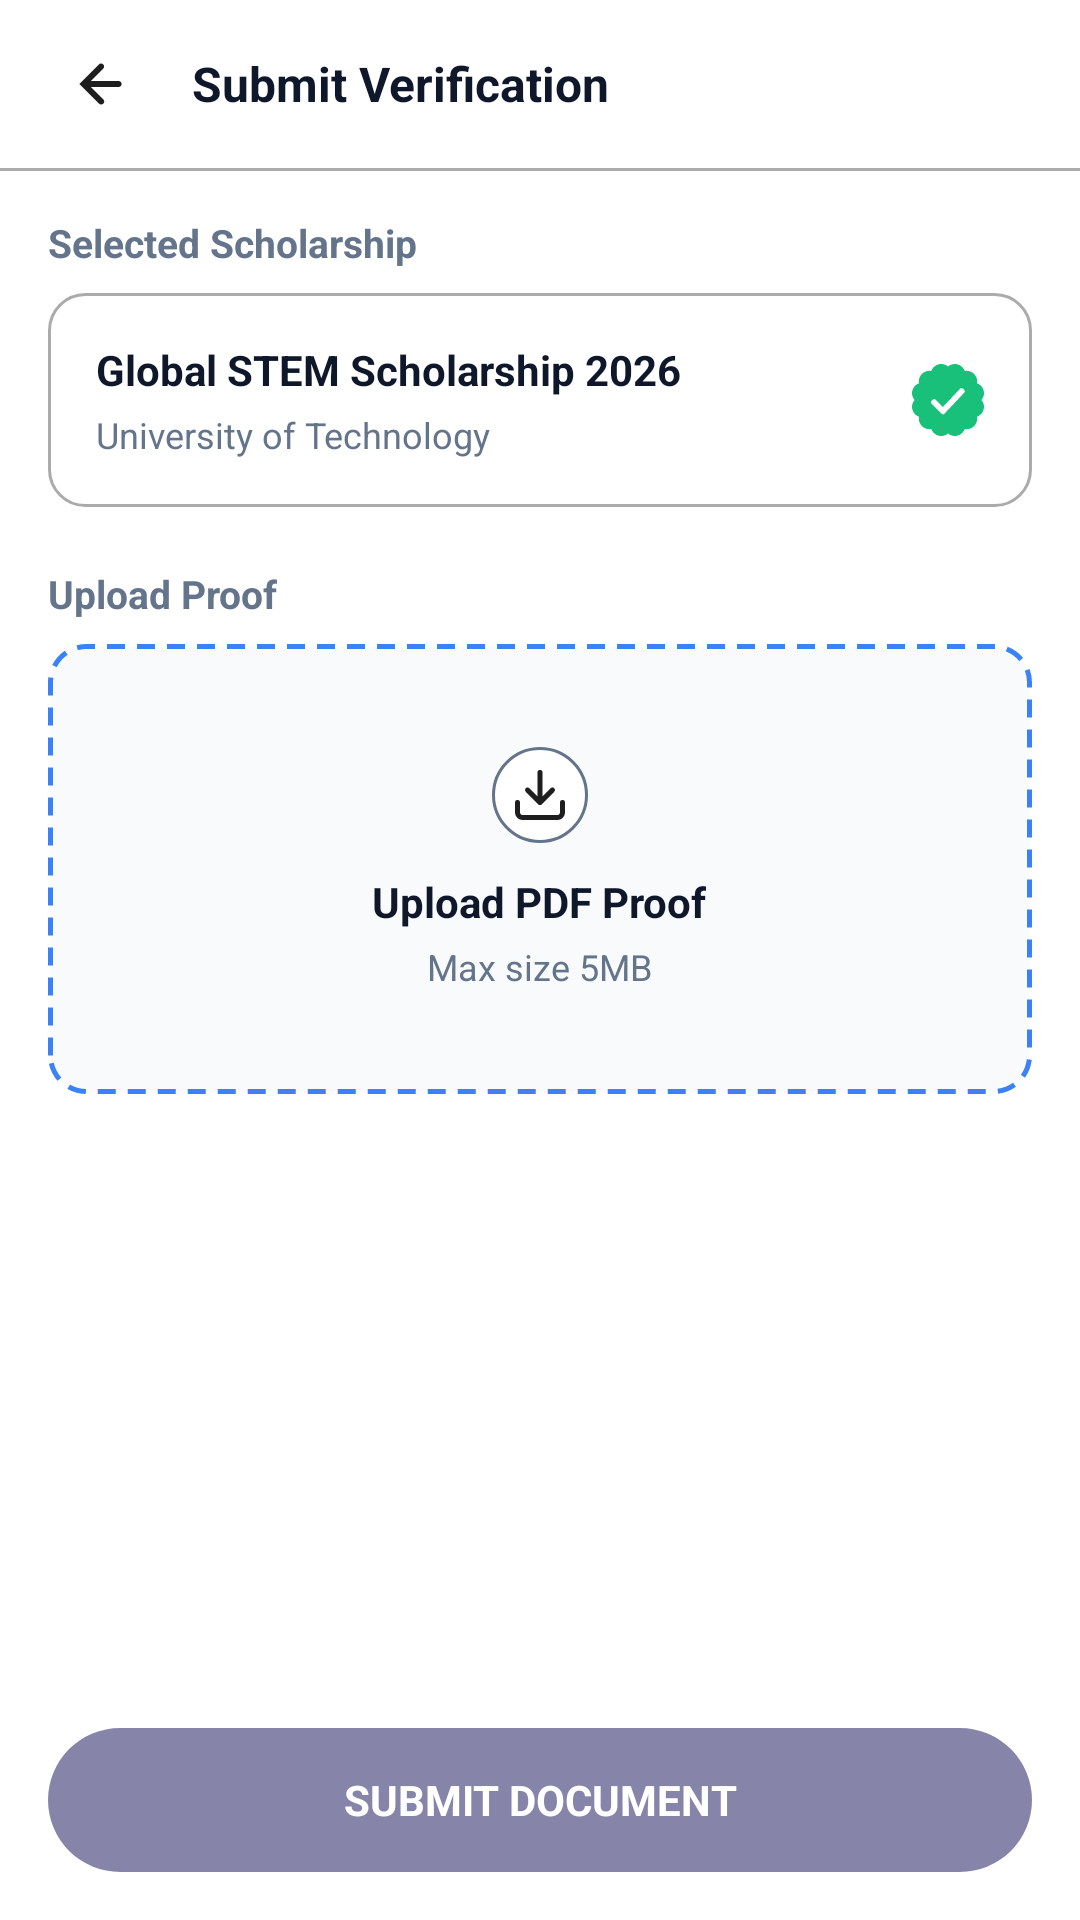

Named icons in this screenshot (1080 x 1920) and their centers, [x,y]:
Back button: [100,84]
Selected Scholarship: [948,400]
